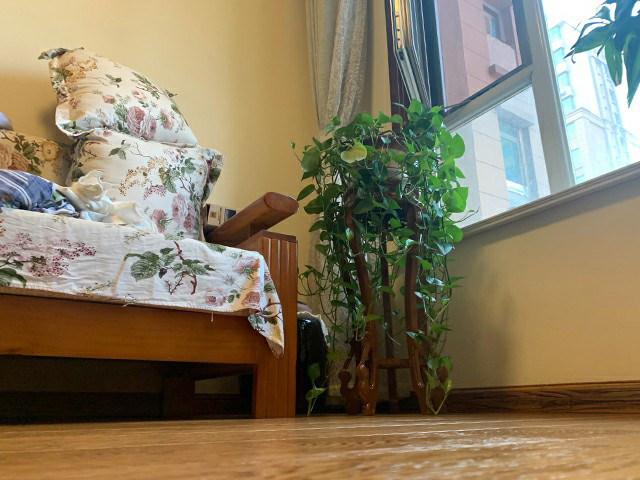curtain: (310, 2, 386, 399)
sofa: (1, 47, 300, 420)
